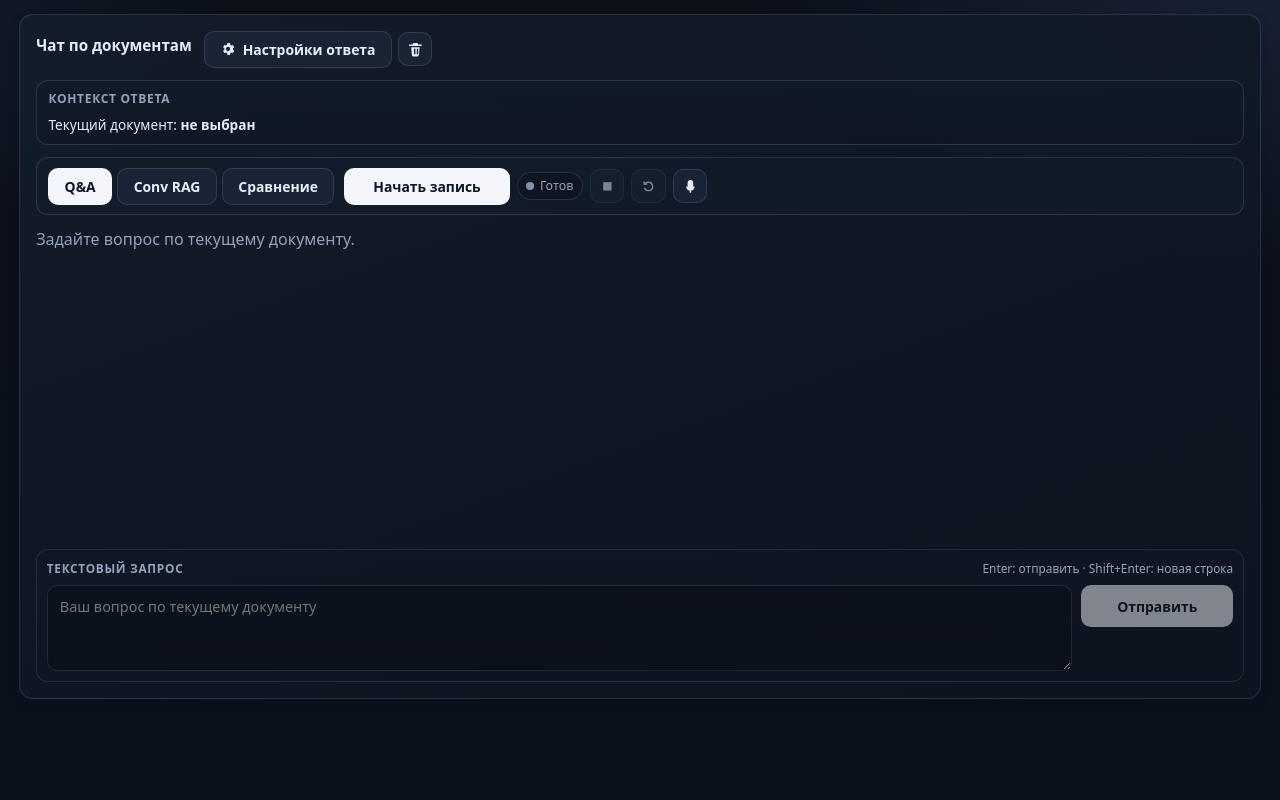
ChatPanel smoke › question -> citation click -> highlighted source is visible
The width and height of the screenshot is (1280, 800).
Type "Что важно?" into the text box with placeholder "Ваш вопрос по текущему документу" at (560, 628), box 47,585 -> 1072,671
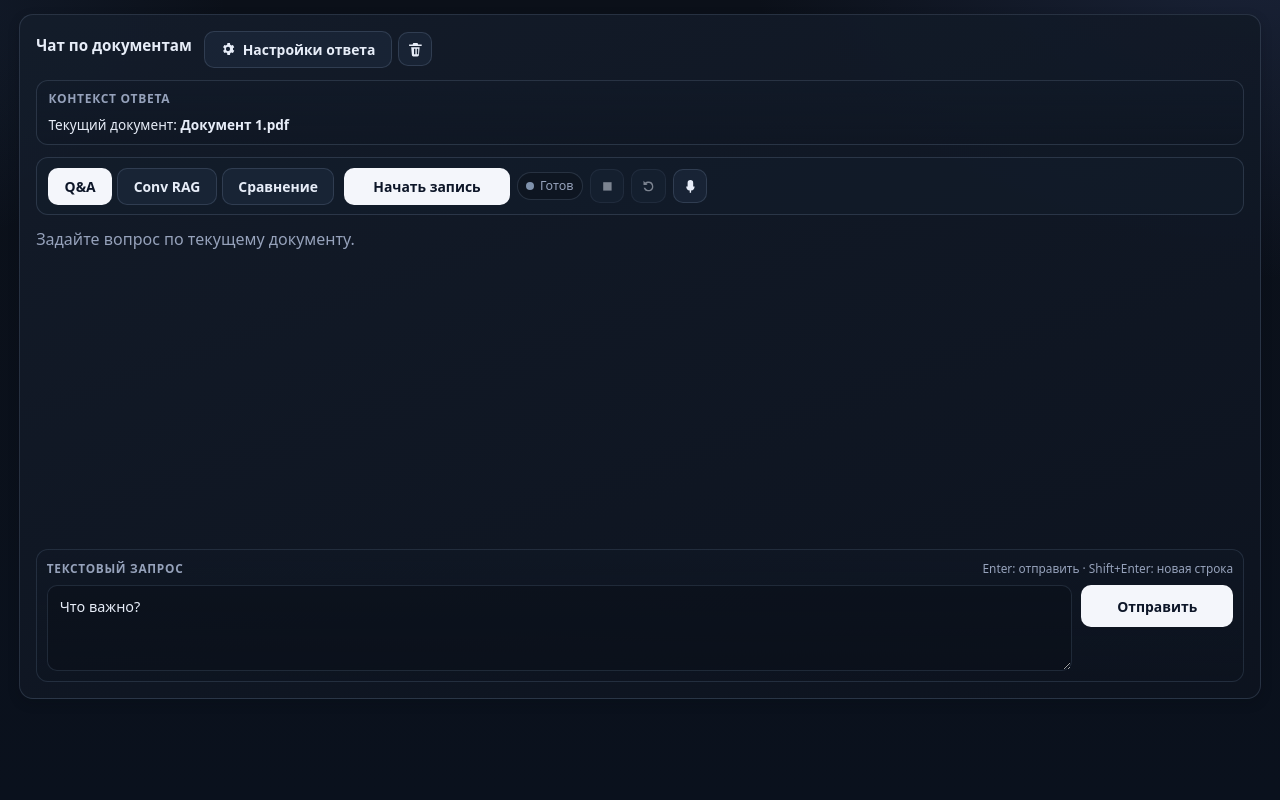
Press Enter in the text box with placeholder "Ваш вопрос по текущему документу", box 47,585 -> 1072,671
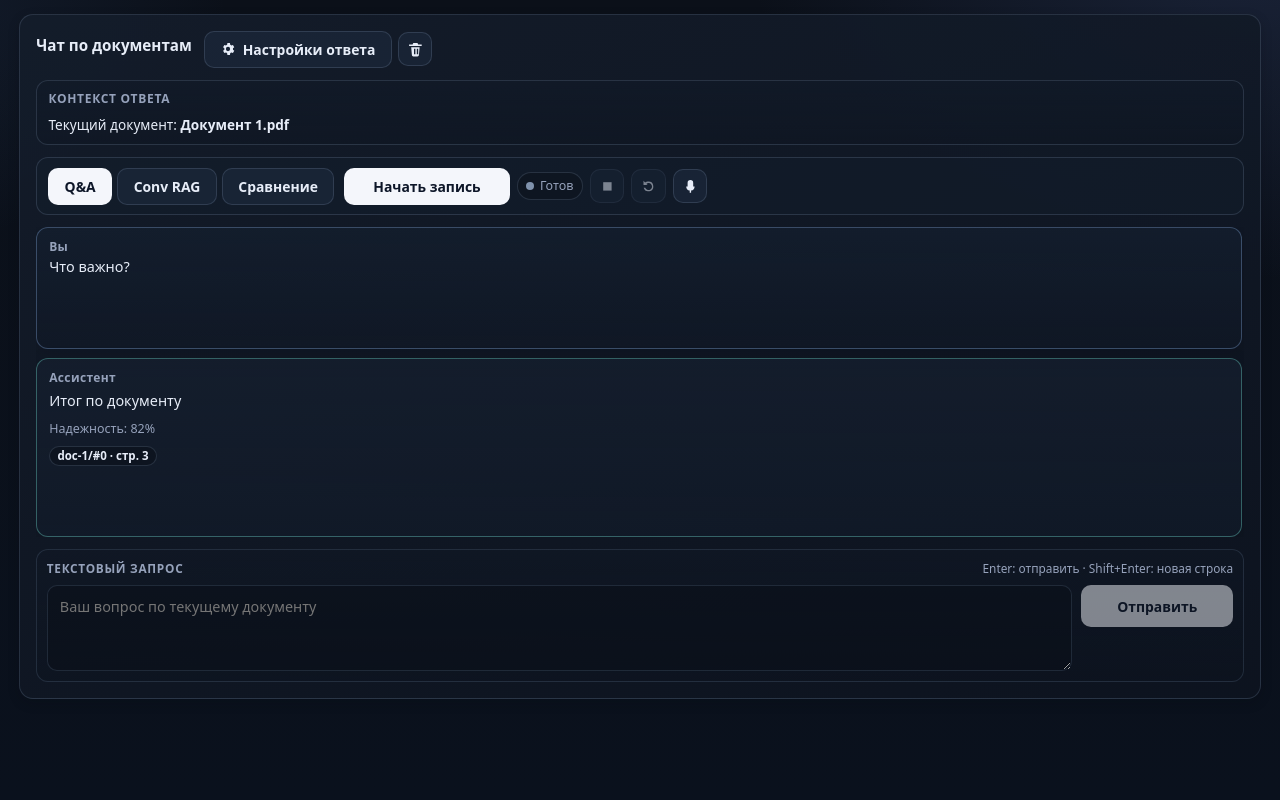
Now the text "Итог по документу" is shown, box 49,391 -> 181,410
Now the button "doc-1/#0 · стр. 3" is shown
Click the button "doc-1/#0 · стр. 3" at (103, 456), box 49,446 -> 157,466
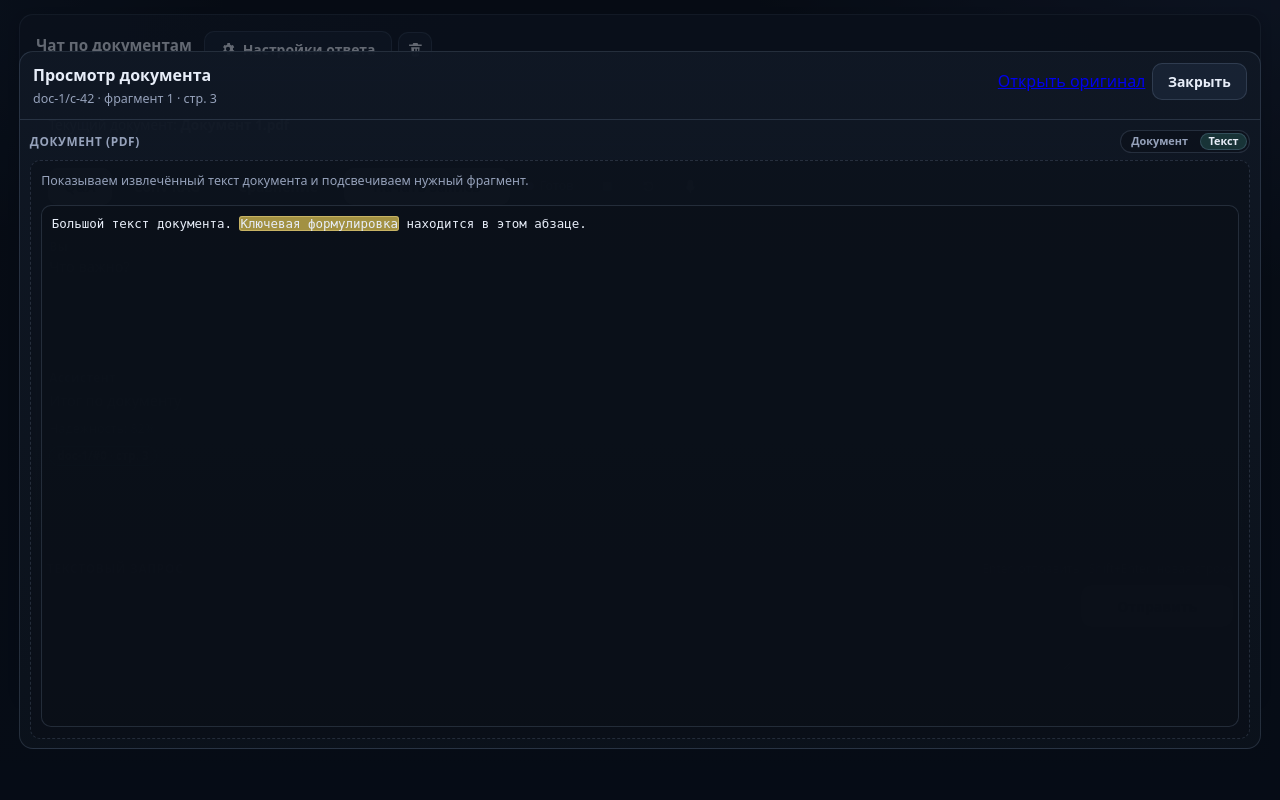
Now the text "Ключевая формулировка" is shown, box 240,216 -> 399,231
